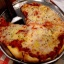pizza: (2, 3, 63, 62)
